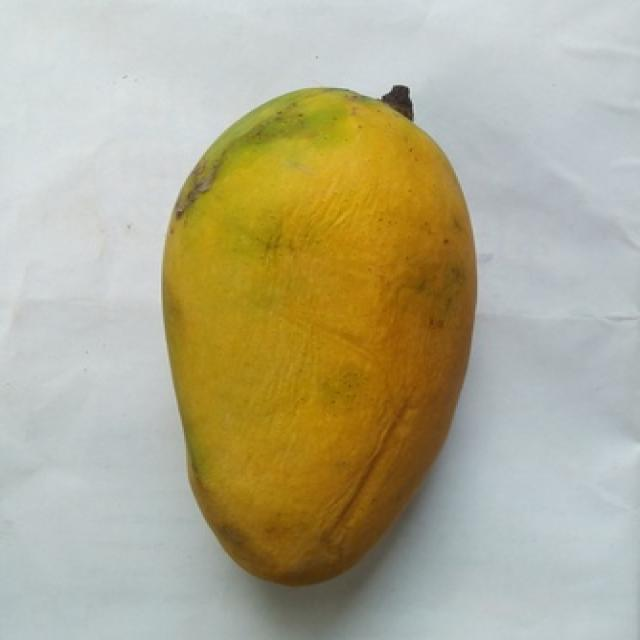Mango: (165, 88, 475, 584)
